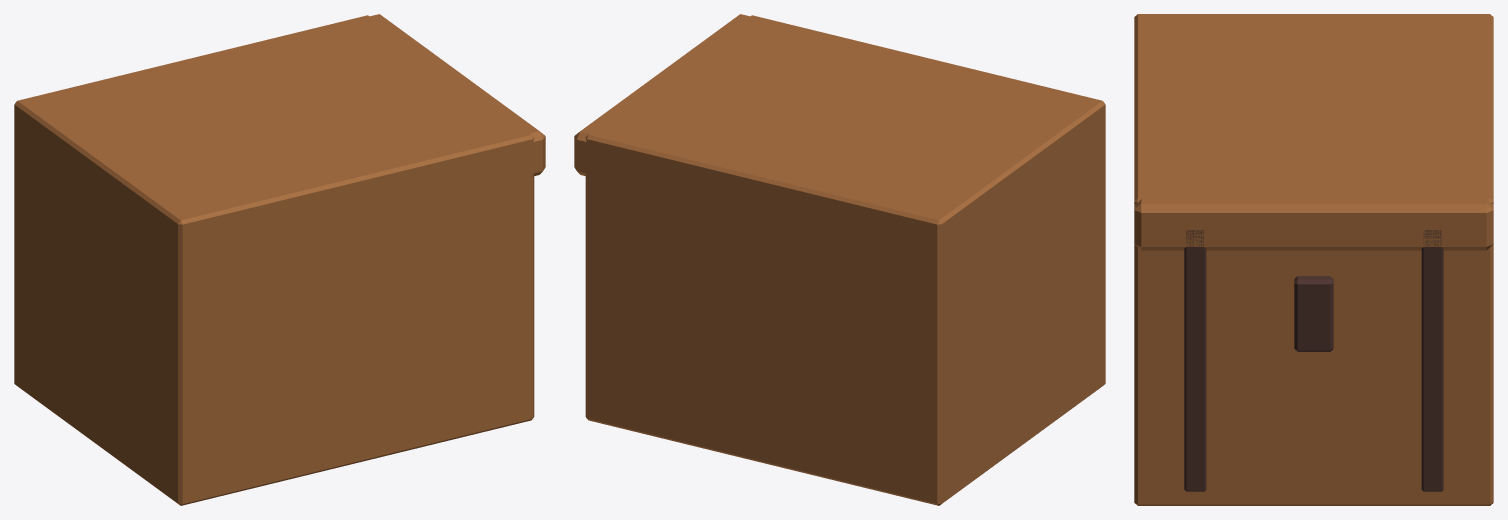
File: coffre_couloir.glb
3 views of the same model, side by side, from view 1: azimuth 30°, elevation 25°; view 2: azimuth 150°, elevation 25°; view 3: azimuth 270°, elevation 25° (orthographic). The views are drawn at different scales.
Parts seen in each view (by area): view 1: coffre_couloir; view 2: coffre_couloir; view 3: coffre_couloir.
Part boxes in pixels (left/top/right/bottom): coffre_couloir: left=14, top=14, right=545, bottom=505; coffre_couloir: left=574, top=14, right=1105, bottom=505; coffre_couloir: left=1134, top=14, right=1493, bottom=505.
Size of the model in its own units: 1.15 by 0.85 by 0.9.
Materials: 1 (1 with a texture image).
